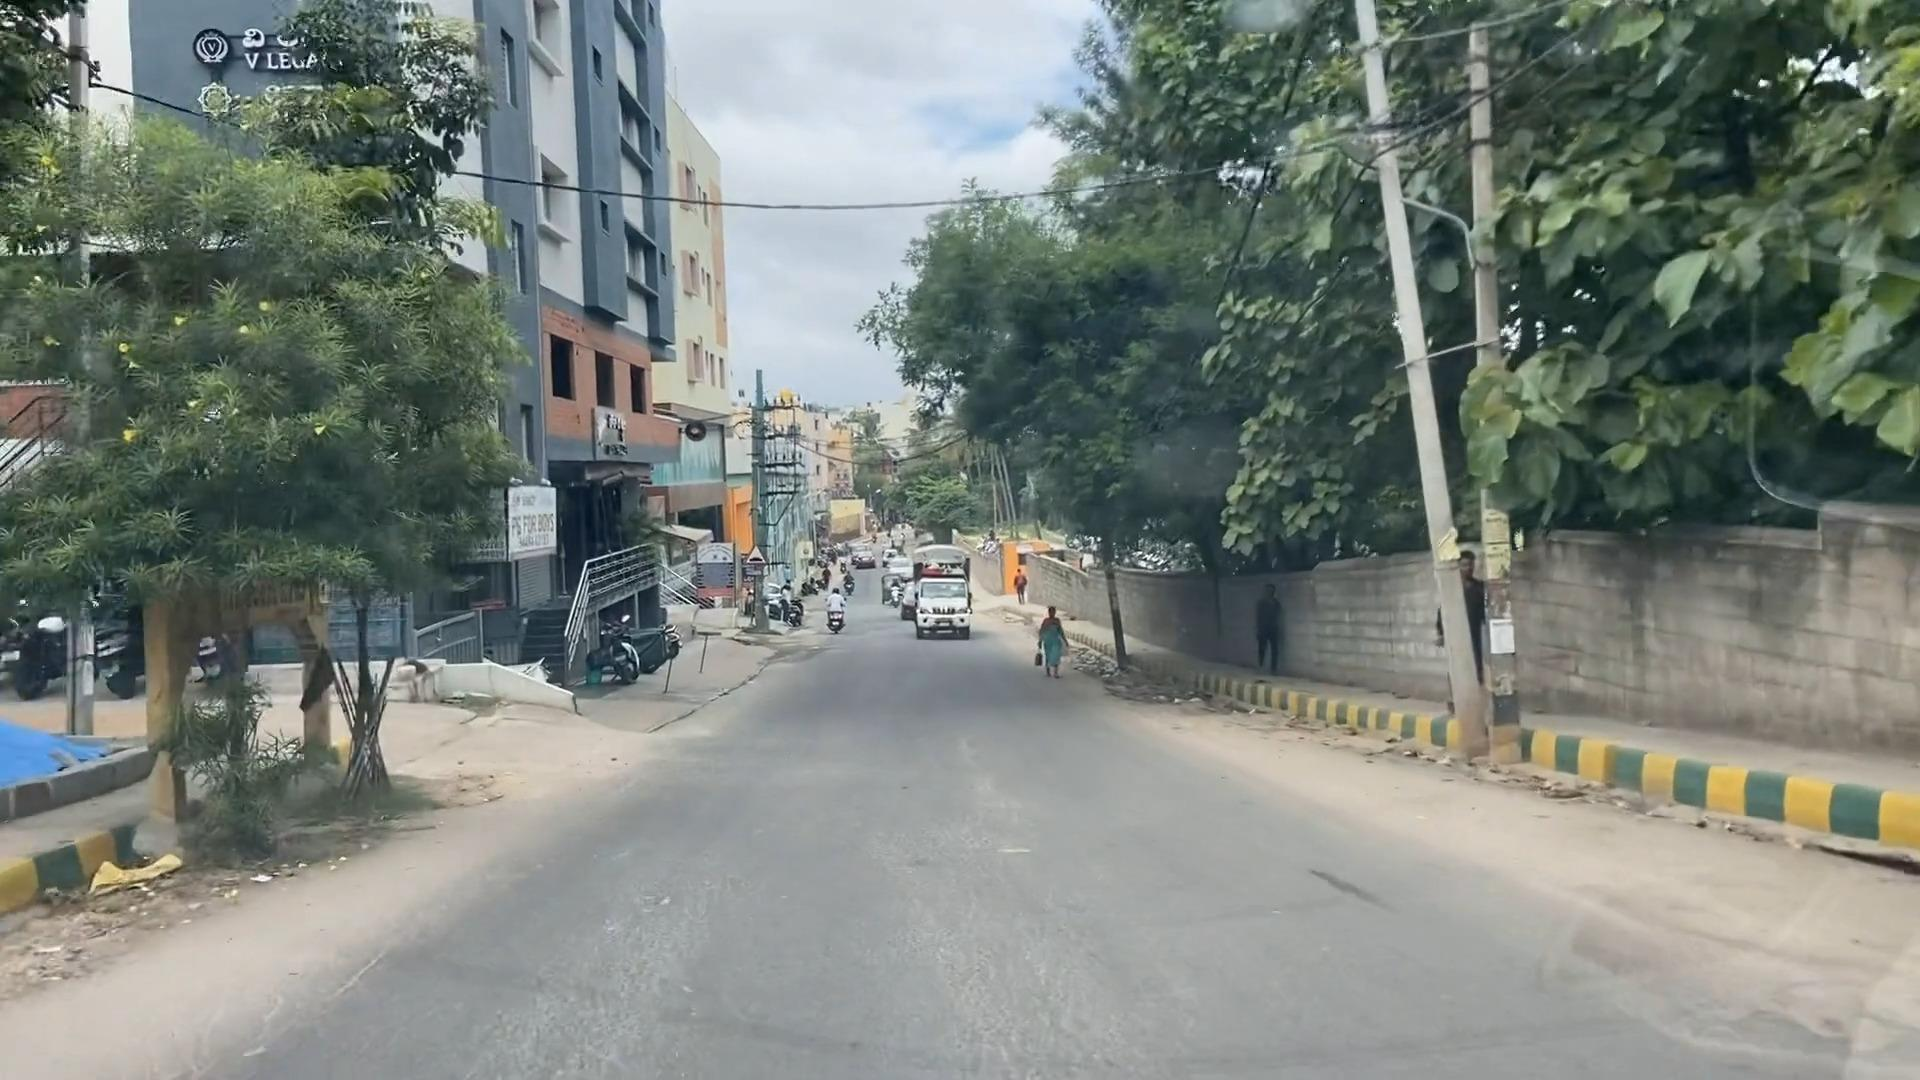HMV: (1427, 537, 1535, 707), (905, 546, 988, 657)
LMV: (583, 603, 684, 702)
